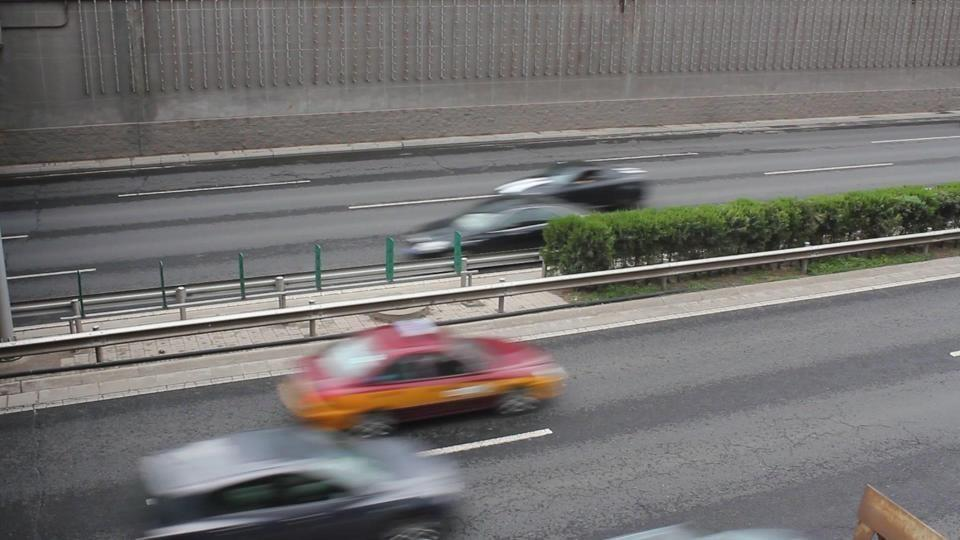car: (136, 423, 471, 537), (276, 316, 573, 433), (396, 159, 650, 261), (491, 162, 650, 210)
